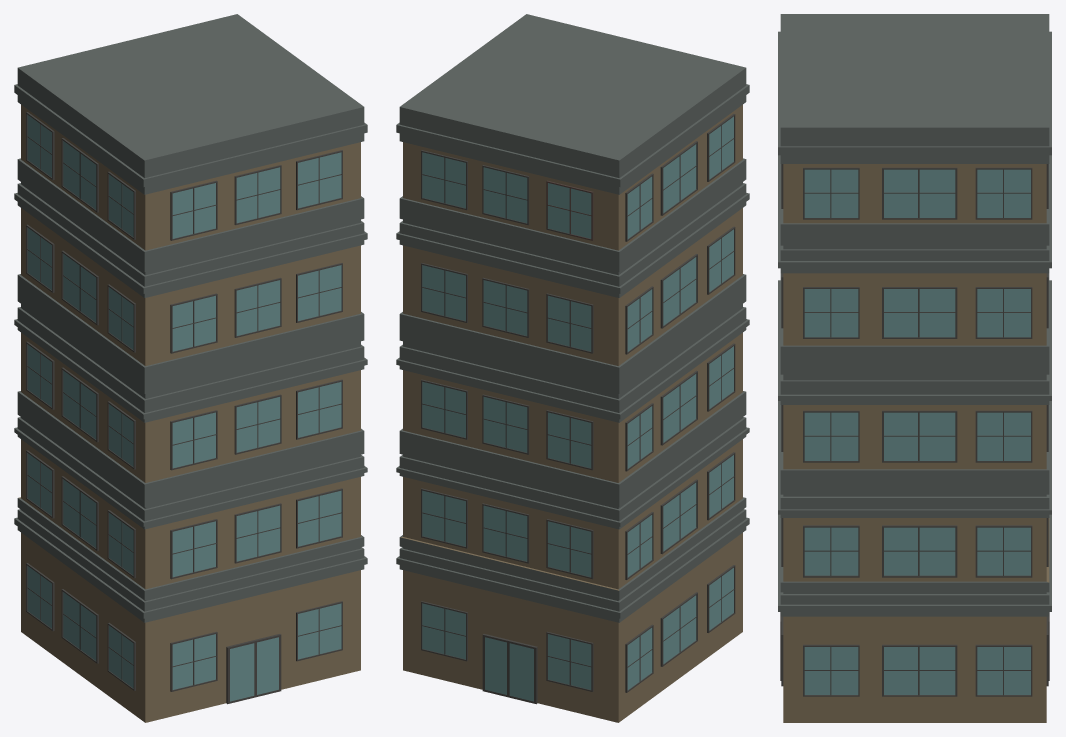
The model's file is Skyscraper_02.fbx.
3 views of the same model, side by side, from view 1: azimuth 30°, elevation 25°; view 2: azimuth 150°, elevation 25°; view 3: azimuth 270°, elevation 25° (orthographic). The views are drawn at different scales.
Parts seen in each view (by area): view 1: Skyscraper_2_0; view 2: Skyscraper_2_0; view 3: Skyscraper_2_0.
Boxes of the visible parts, x1,y1,x2,y2 form: Skyscraper_2_0: (14,14,367,722); Skyscraper_2_0: (396,14,749,722); Skyscraper_2_0: (778,14,1051,722).
Size of the model in its own units: 208 by 500 by 208.
